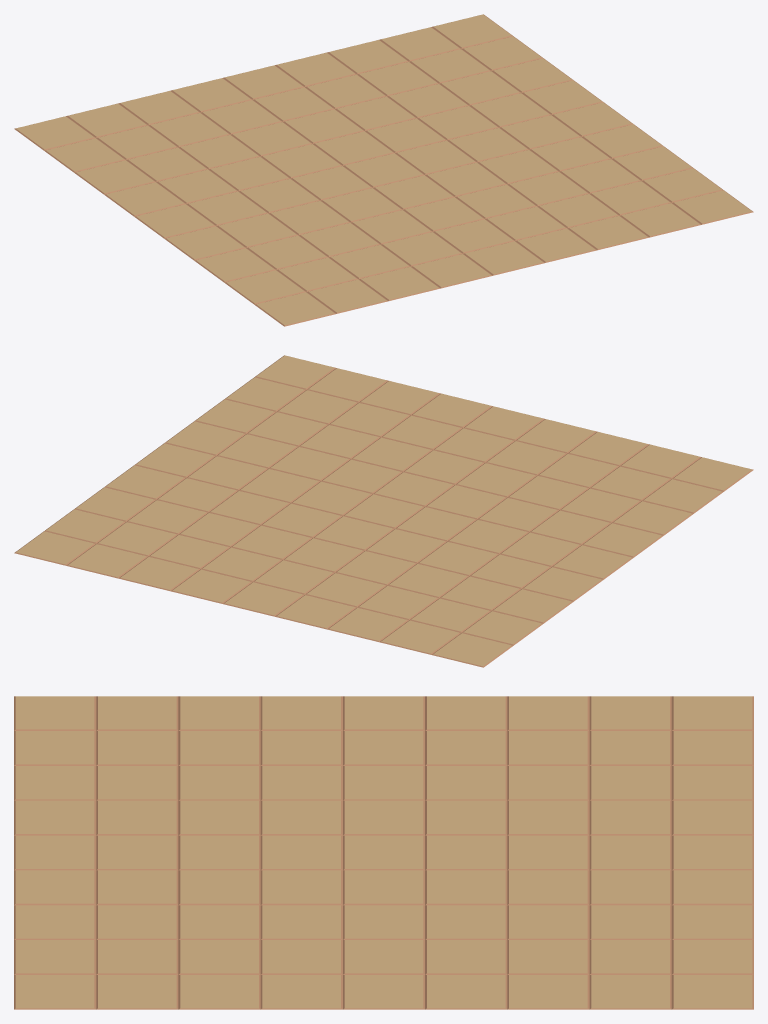
The model's file is Office_Floortile.fbx.
3 views of the same model, one above another, from view 1: azimuth 30°, elevation 25°; view 2: azimuth 150°, elevation 25°; view 3: azimuth 270°, elevation 25° (orthographic). The views are drawn at different scales.
Visible parts, largest first — view 1: Office_Floortile; view 2: Office_Floortile; view 3: Office_Floortile.
Boxes of the visible parts, x1,y1,x2,y2 form: Office_Floortile: [14, 14, 753, 326]; Office_Floortile: [14, 355, 753, 667]; Office_Floortile: [14, 696, 753, 1009].
Size of the model in its own units: 490 by 489 by 0.6001.
